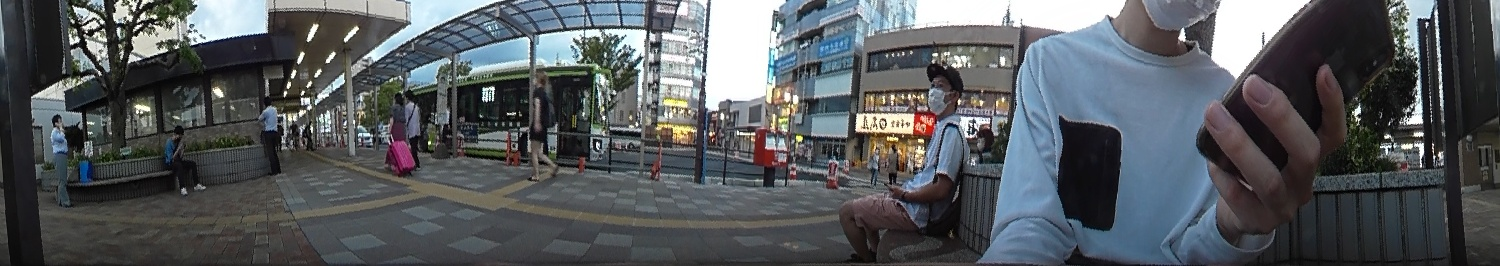difficult_person: (886, 139, 903, 185), (867, 144, 881, 181), (301, 117, 314, 151), (273, 117, 284, 152), (290, 118, 299, 151)
person: (841, 59, 968, 265), (163, 124, 209, 197), (40, 110, 73, 207), (257, 98, 286, 179), (383, 91, 405, 174), (400, 90, 421, 173)
